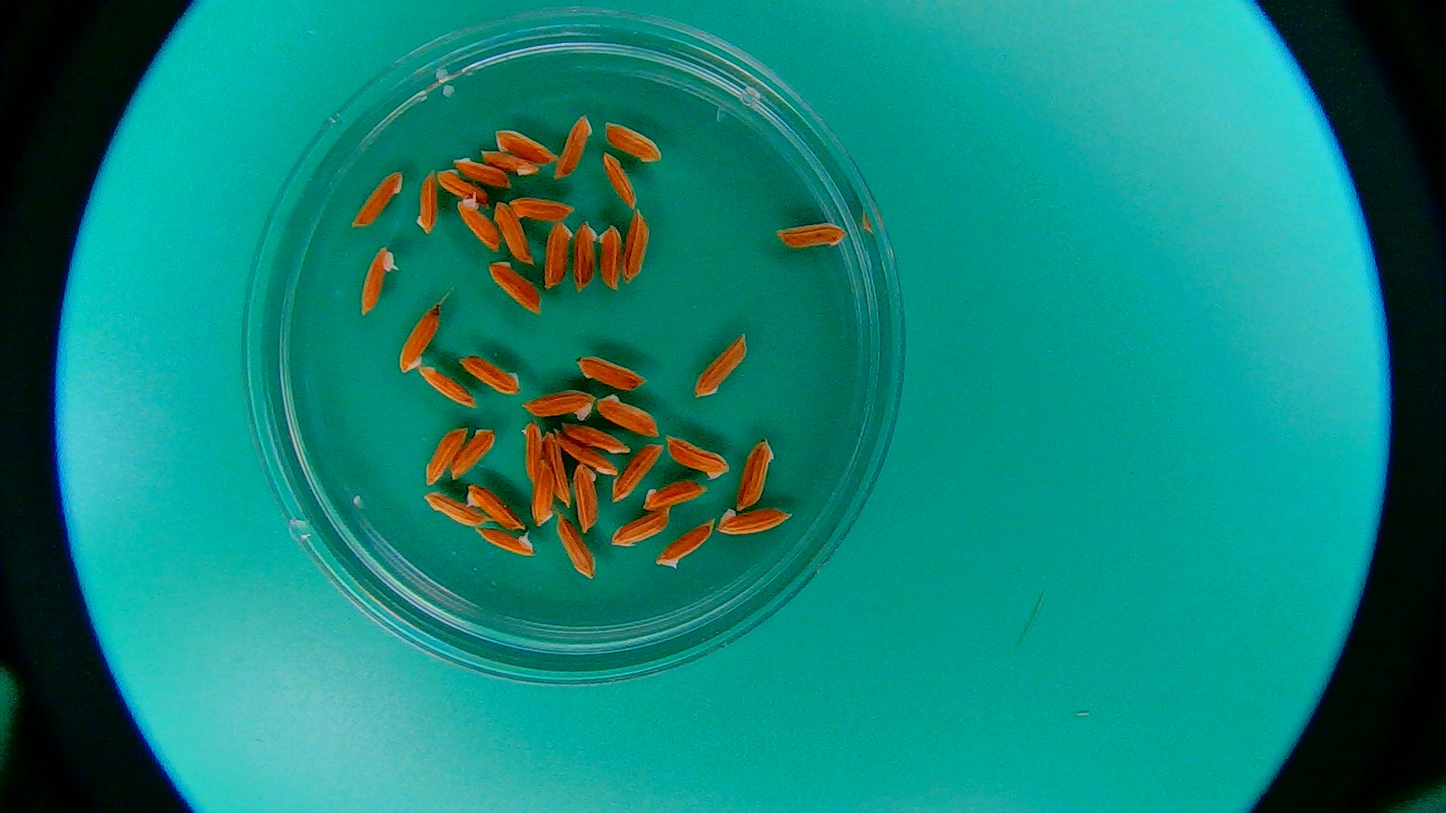no: (594, 388, 666, 439), (551, 425, 620, 478), (654, 516, 716, 574), (693, 336, 749, 400), (349, 169, 404, 231), (485, 257, 541, 316), (666, 432, 731, 482), (457, 350, 525, 397), (735, 437, 777, 511), (553, 512, 598, 580), (465, 481, 527, 530), (450, 425, 502, 483), (494, 199, 537, 269), (603, 116, 664, 164), (520, 387, 597, 425), (552, 111, 594, 180), (575, 352, 649, 391), (493, 123, 560, 166), (607, 506, 671, 551), (423, 424, 469, 486), (400, 304, 440, 375), (418, 492, 493, 529), (717, 504, 801, 537), (540, 430, 575, 509), (418, 365, 478, 411), (560, 418, 631, 455), (435, 166, 490, 209), (776, 220, 850, 251), (621, 209, 651, 284), (602, 151, 640, 210), (542, 218, 573, 290), (567, 218, 598, 290), (594, 222, 625, 294), (642, 481, 713, 512), (572, 463, 603, 534), (452, 153, 511, 189), (478, 148, 541, 180), (530, 457, 558, 528), (508, 194, 575, 221), (517, 420, 544, 483), (415, 168, 436, 236)
yes: (456, 197, 505, 252), (360, 249, 397, 318), (471, 523, 538, 558)
